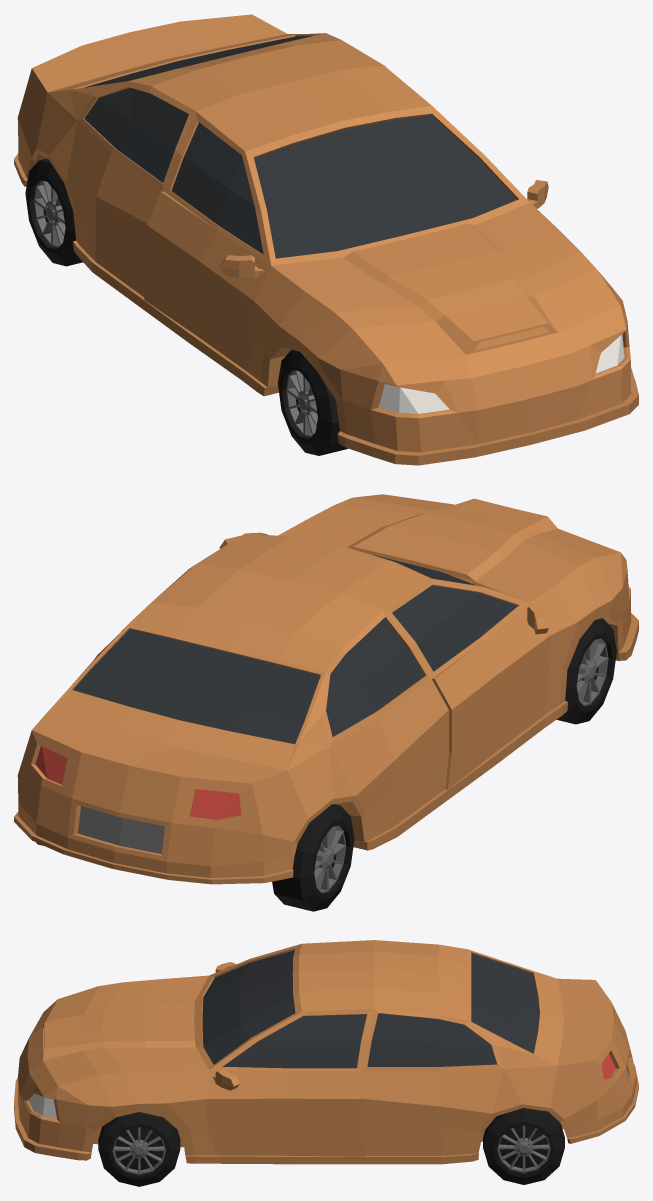
The model's file is sport.gltf.
3 views of the same model, one above another, from view 1: azimuth 30°, elevation 25°; view 2: azimuth 150°, elevation 25°; view 3: azimuth 270°, elevation 25° (orthographic). The views are drawn at different scales.
Parts seen in each view (by area): view 1: Body, Wheel_FR, Wheel_RR; view 2: Body, Wheel_RR, Wheel_FR; view 3: Body, Wheel_RL, Wheel_FL.
Part boxes in pixels (left/top/right/bottom): Body: left=14, top=14, right=638, bottom=465; Wheel_FR: left=278, top=349, right=348, bottom=455; Wheel_RR: left=25, top=158, right=82, bottom=266; Body: left=14, top=494, right=638, bottom=884; Wheel_RR: left=272, top=804, right=354, bottom=911; Wheel_FR: left=556, top=618, right=616, bottom=724; Body: left=14, top=940, right=638, bottom=1164; Wheel_RL: left=483, top=1108, right=564, bottom=1184; Wheel_FL: left=98, top=1112, right=180, bottom=1186.
Size of the model in its own units: 1.8 by 1.16 by 3.97.
